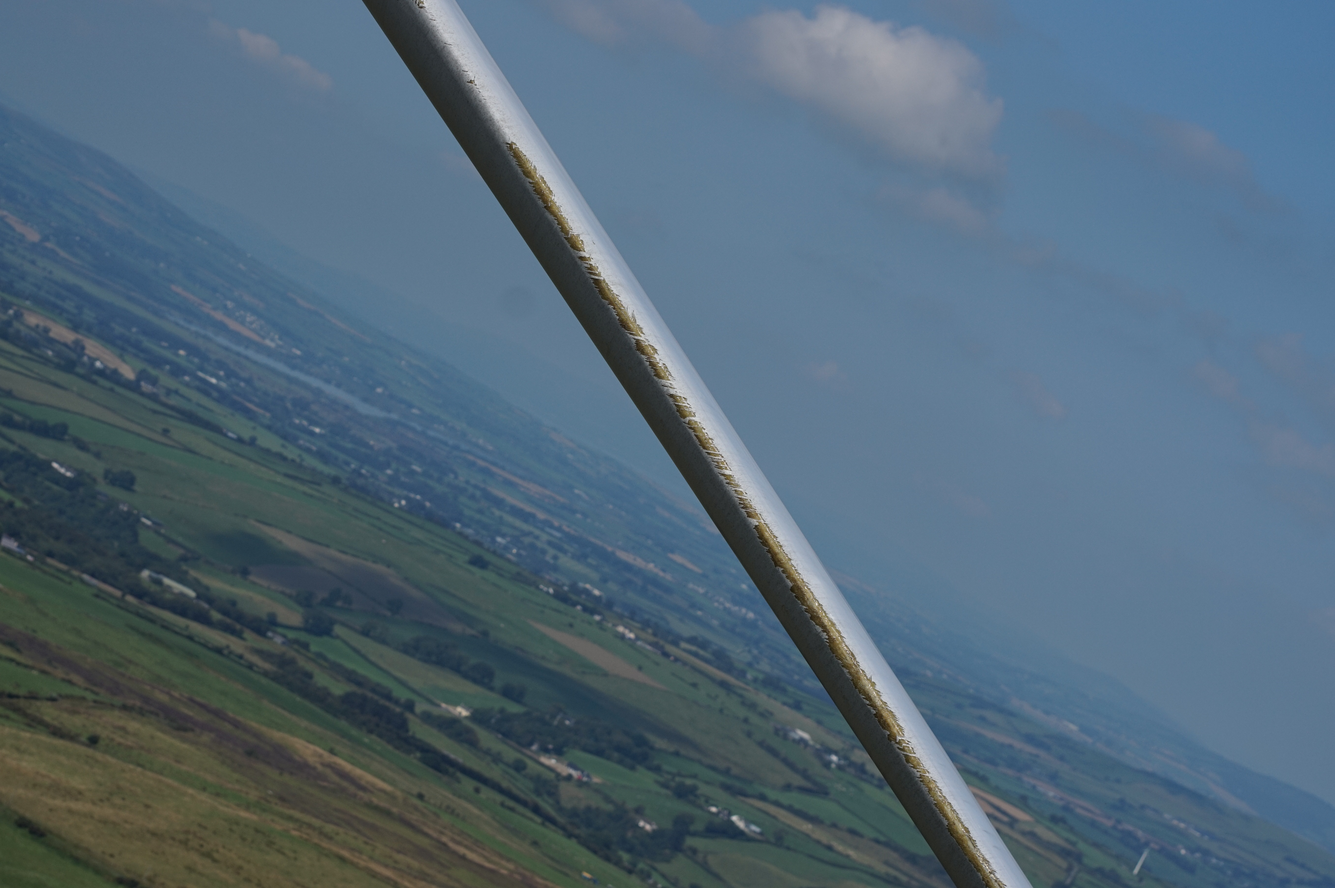Damage: (502, 137, 1008, 884)
